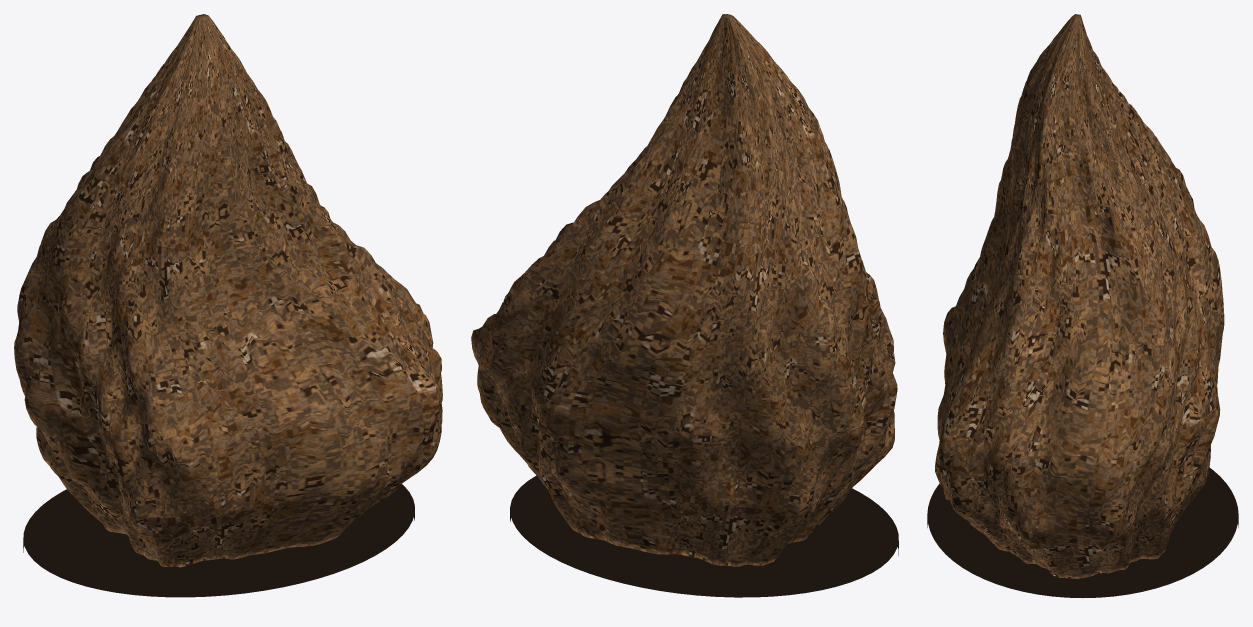
File: lingstone-concept-01-v19.glb
3 renders of one model, left to right at view 1: azimuth 30°, elevation 25°; view 2: azimuth 150°, elevation 25°; view 3: azimuth 270°, elevation 25°, orthographic. The views are drawn at different scales.
Visible parts, largest first — view 1: XY-CONCEPT-001 concept stone, Concept display plinth; view 2: XY-CONCEPT-001 concept stone, Concept display plinth; view 3: XY-CONCEPT-001 concept stone, Concept display plinth.
Boxes of the visible parts, box(x1,y1,x2,y2) form: XY-CONCEPT-001 concept stone: box(14, 14, 442, 567); Concept display plinth: box(23, 484, 414, 597); XY-CONCEPT-001 concept stone: box(471, 14, 897, 566); Concept display plinth: box(510, 475, 898, 597); XY-CONCEPT-001 concept stone: box(935, 14, 1224, 578); Concept display plinth: box(927, 467, 1238, 597).
Bounding box in the file's own units: 1.33 × 1.7 × 0.9516.
2 materials, 1 textured.
